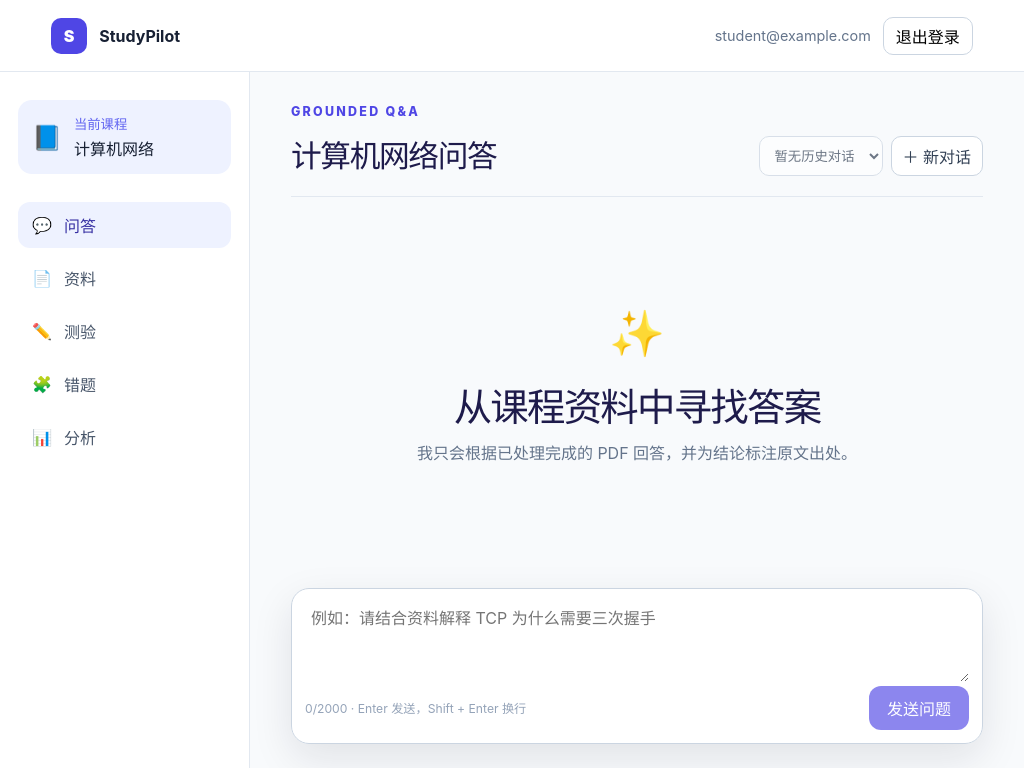
Test case: cited course chat › restores the draft after a network failure so the question can retry
In the text box named "向课程资料提问": (637,642) [305,602,969,682], type "请解释拥塞控制"
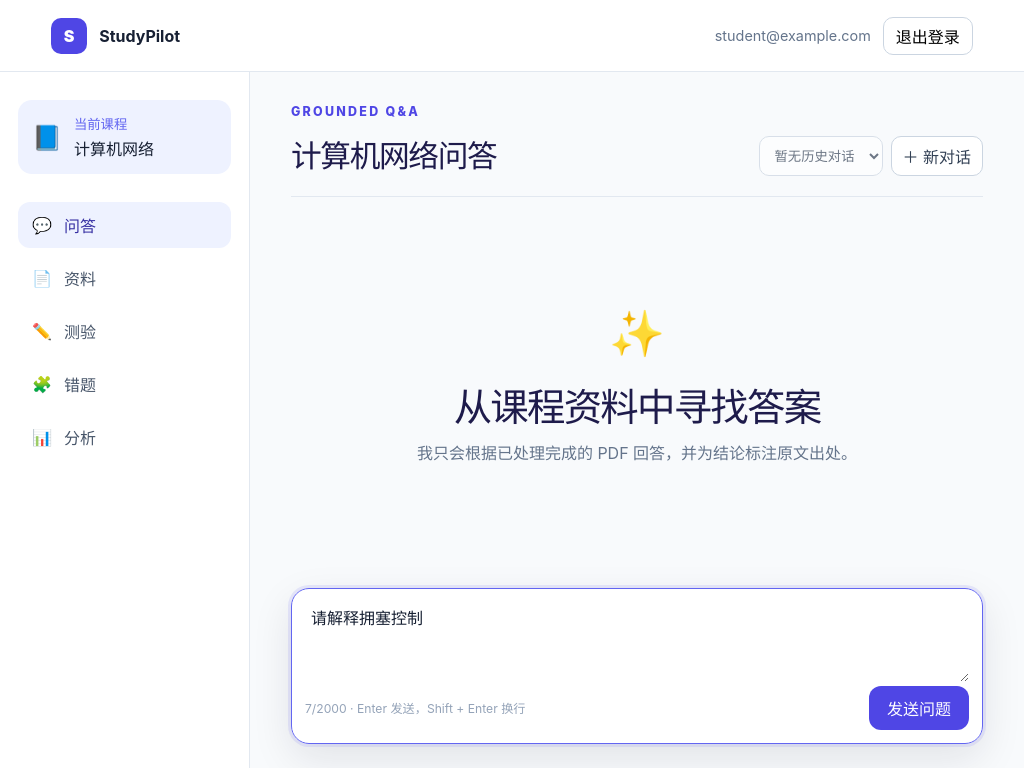
Click the button "发送问题": (919,708) [869,686,969,730]
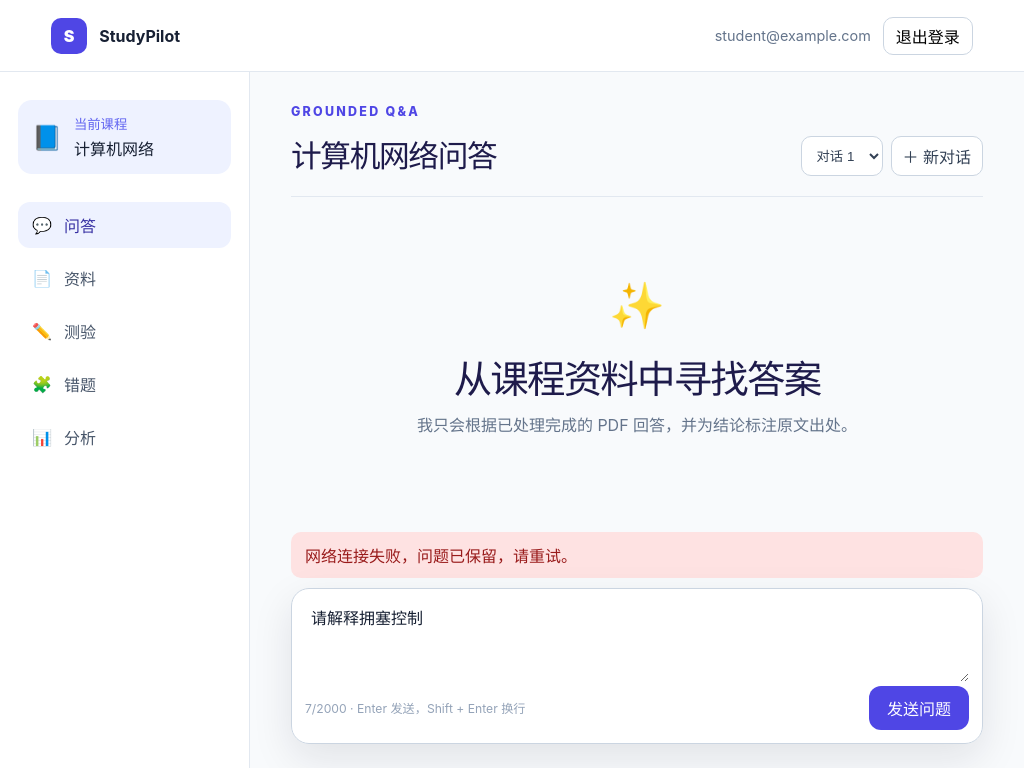
Expected: the button "发送问题" is enabled, [869,686,969,730]
Expected: the message shows "问题已保留", [305,546,577,566]
